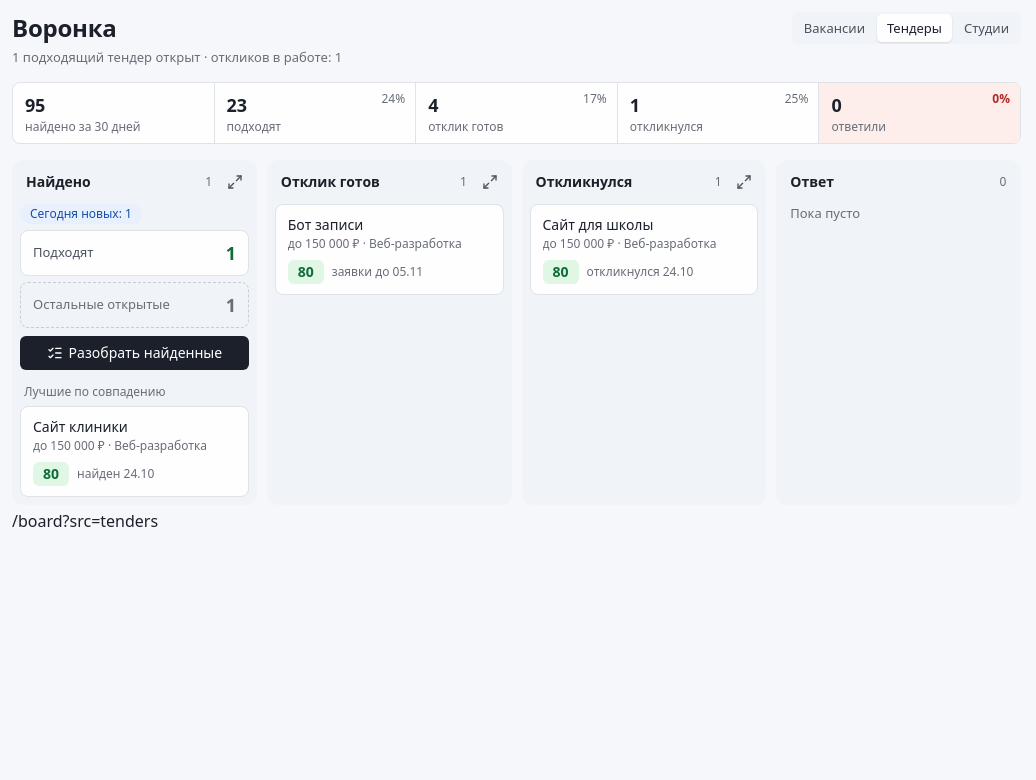
Test case: BoardPage: tenders › shows the tender funnel and summary, opens the suitable ones, asks Claude for an answer by Enter and skips by S
Expected: the number of list items is 5, [25,93,140,135]; [214,83,415,143]; [415,83,617,143]; [617,83,818,143]; [818,83,1020,143]
Expected: the text "1 подходящий тендер открыт · откликов в работе: 1" is shown, [12,48,342,66]
Click the button "Разобрать найденные" at (134, 353), box [20,336,249,370]
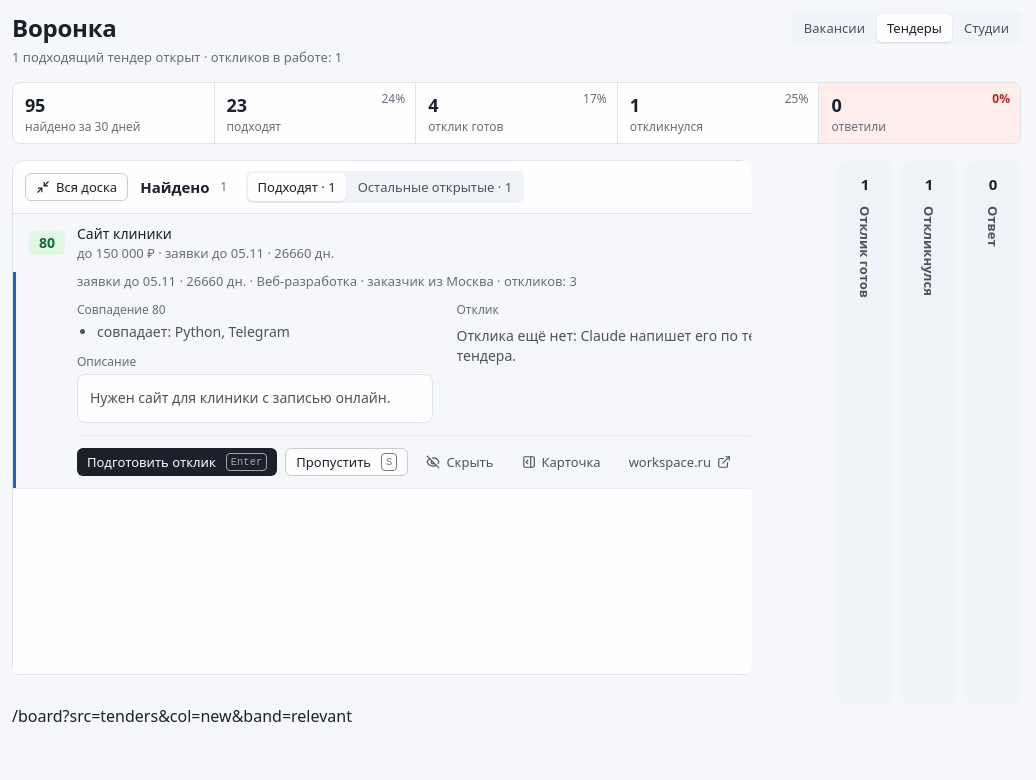
Expected: the text with test id "location" reads "/board?src=tenders&col=new&band=relevant", [12,705,352,727]
Expected: the text "Нужен сайт для клиники с записью онлайн." is shown, [90,387,420,410]
Press Enter
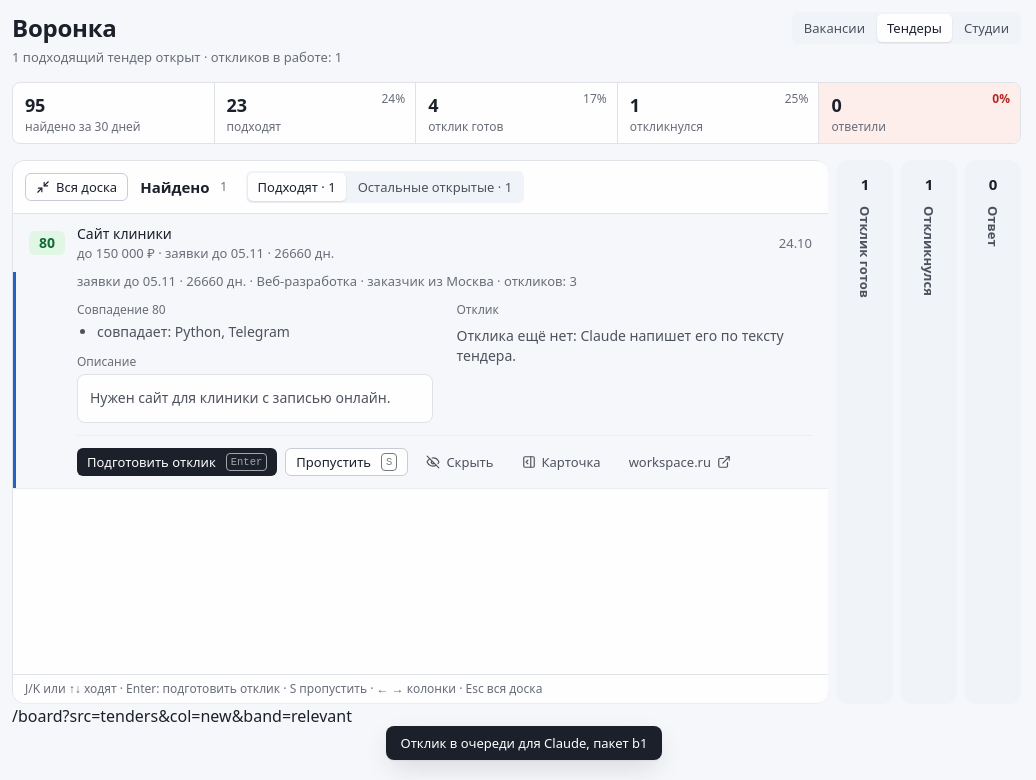
Expected: the text "Нужен сайт для клиники с записью онлайн." is shown, [90,387,420,410]
Expected: the text "Отклик в очереди для Claude, пакет b1" is shown, [386,726,662,760]
Press s
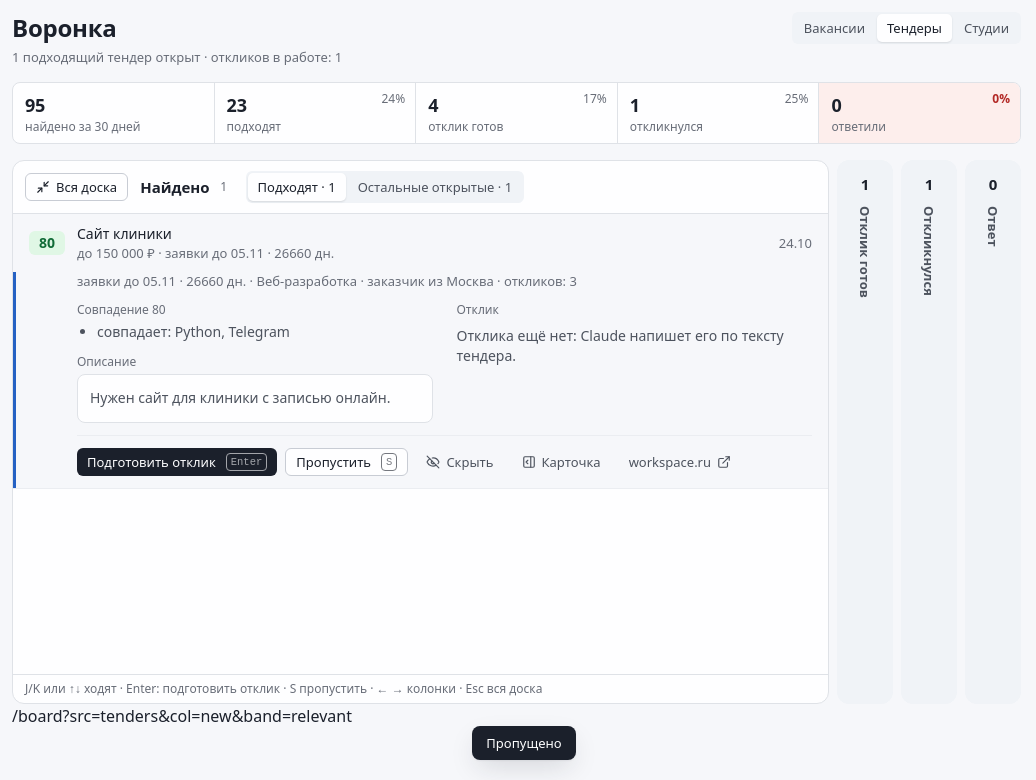
Click the radio button labelled "Остальные открытые · 1" at (435, 187), box [348,173,522,201]
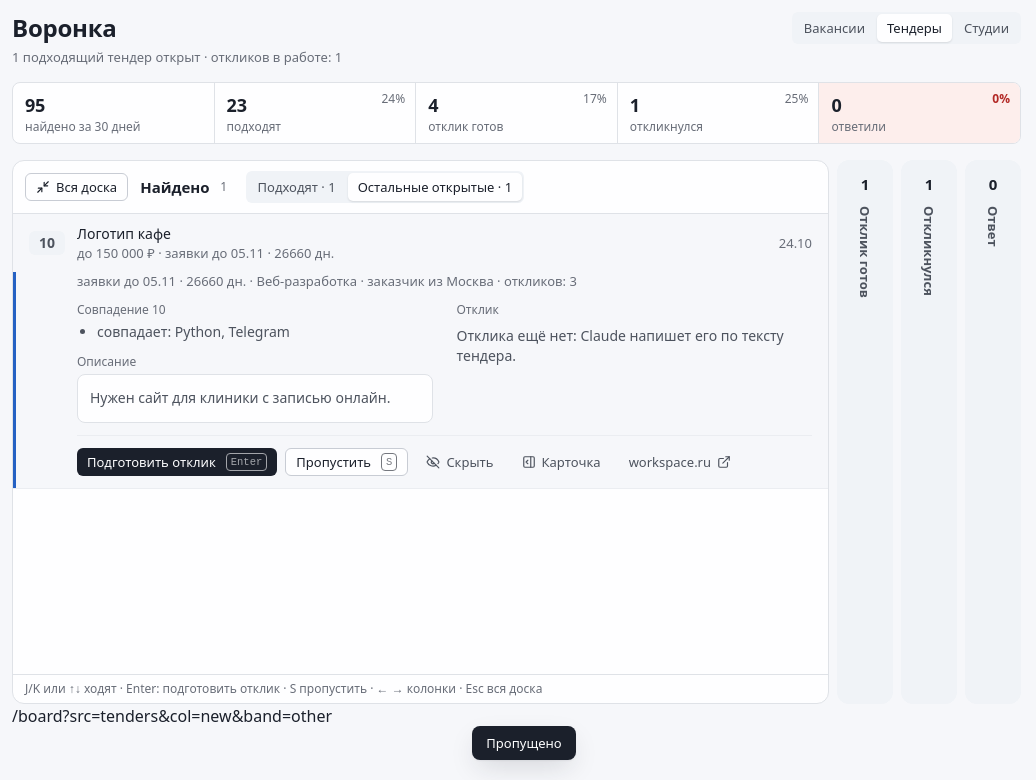
Expected: the text with test id "location" reads "/board?src=tenders&col=new&band=other", [12,705,332,727]
Expected: the text "Логотип кафе" is shown, [77,224,171,243]
